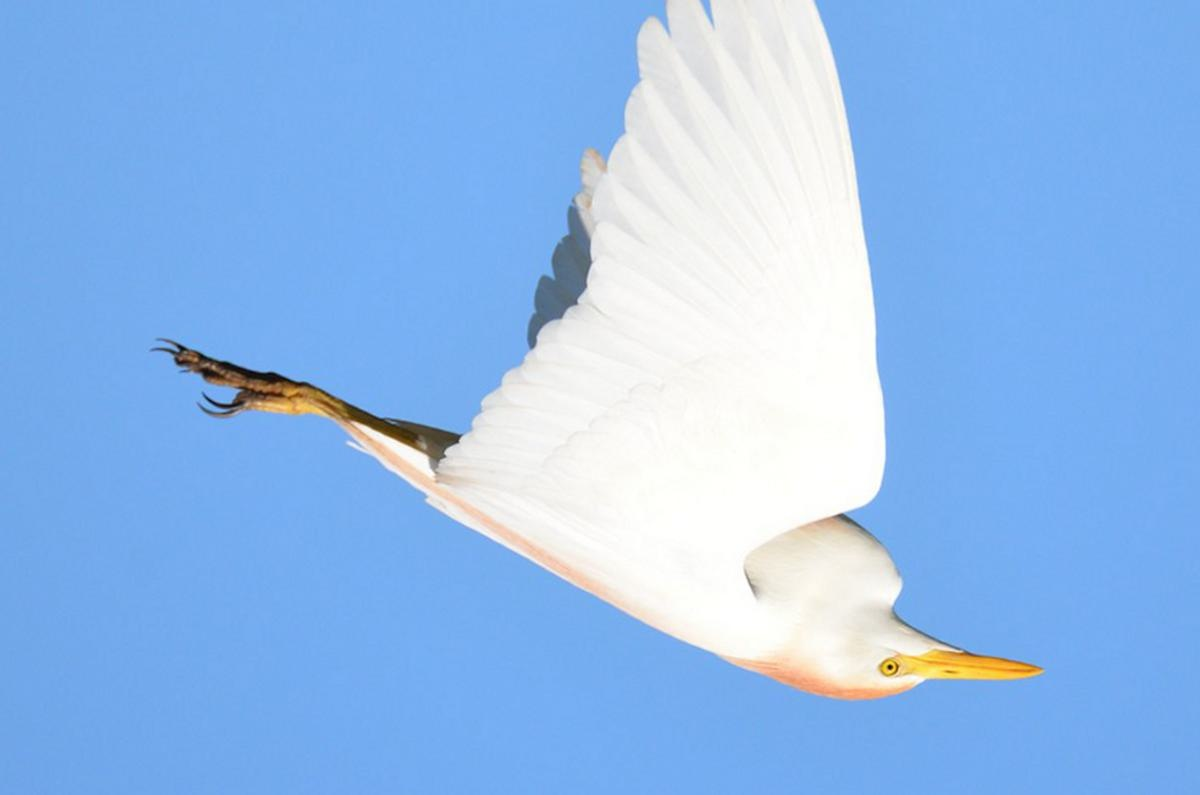egret: (233, 15, 1054, 715)
